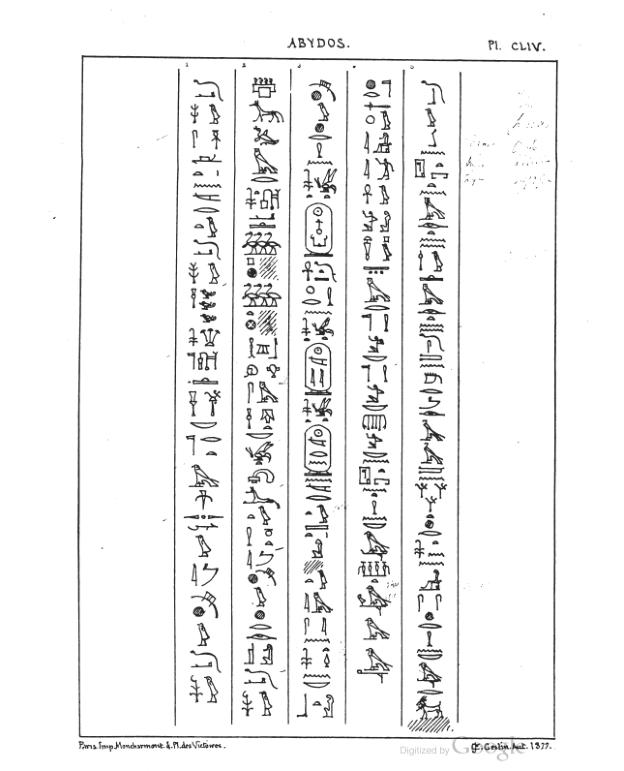circle: (299, 423, 338, 480), (302, 342, 337, 399), (303, 201, 336, 259)
